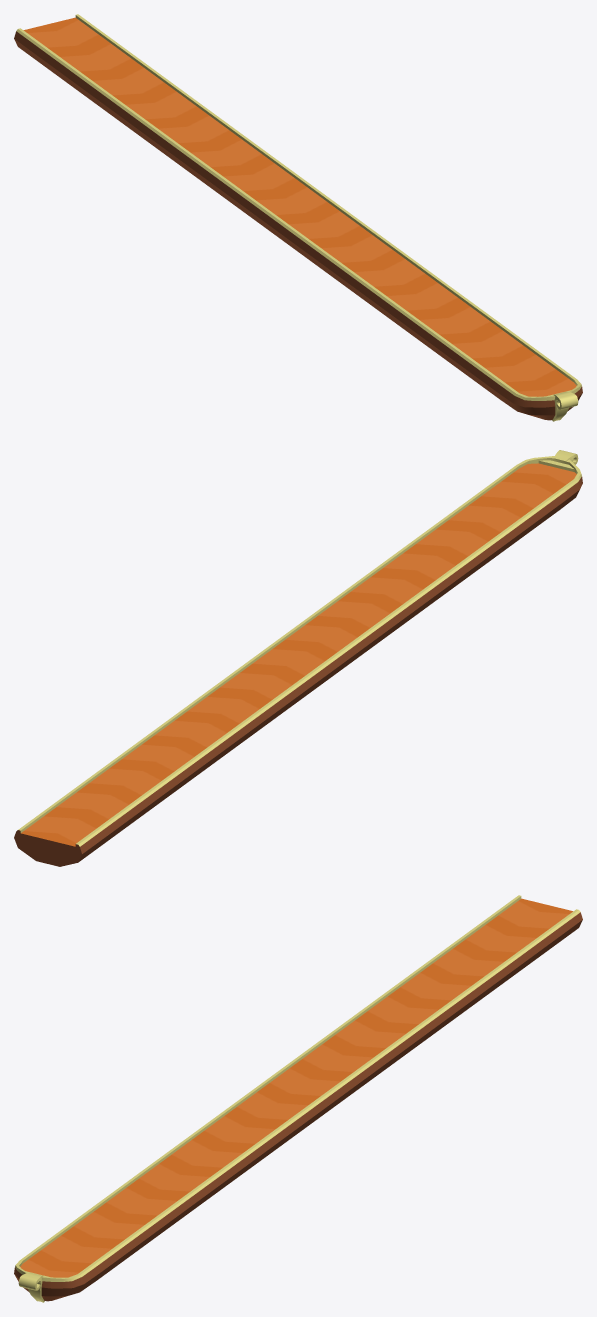
Rendered from yeni gemi 2.fbx.
The picture shows the model from 3 angles, top to bottom: view 1: azimuth 30°, elevation 25°; view 2: azimuth 150°, elevation 25°; view 3: azimuth 330°, elevation 25°; orthographic projection.
Visible parts, largest first — view 1: 1. parça; view 2: 1. parça; view 3: 1. parça.
Part boxes in pixels (x1,y1,x2,y2): 1. parça: (14,14,582,421); 1. parça: (14,450,582,866); 1. parça: (14,895,582,1302).
Bounding box in the file's own units: 514 × 230 × 6815.
Materials: 5 (1 with a texture image).
